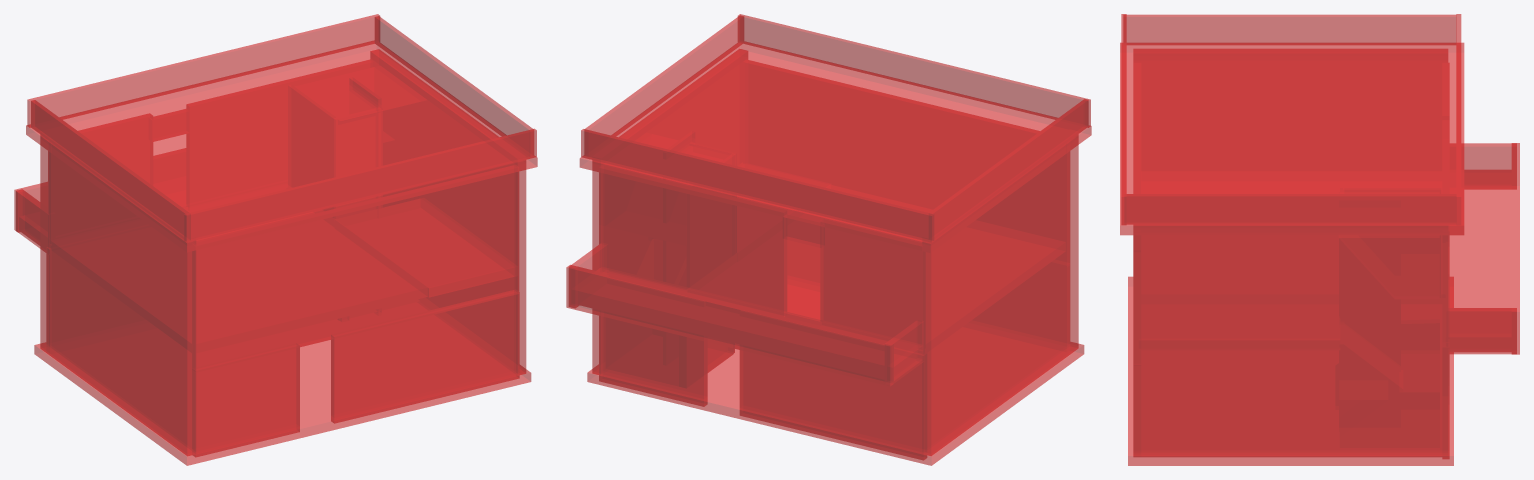
File: SM_Bld_House_01_C_Collision.fbx
The picture shows the model from 3 angles, left to right: view 1: azimuth 30°, elevation 25°; view 2: azimuth 150°, elevation 25°; view 3: azimuth 270°, elevation 25°; orthographic projection. The views are drawn at different scales.
Parts seen in each view (by area): view 1: SM_Bld_House_01_C_Collision; view 2: SM_Bld_House_01_C_Collision; view 3: SM_Bld_House_01_C_Collision.
Boxes of the visible parts, box(x1,y1,x2,y2) form: SM_Bld_House_01_C_Collision: box(14, 14, 537, 465); SM_Bld_House_01_C_Collision: box(566, 14, 1091, 465); SM_Bld_House_01_C_Collision: box(1120, 14, 1519, 465).
Bounding box in the file's own units: 1093 × 754 × 1011.
